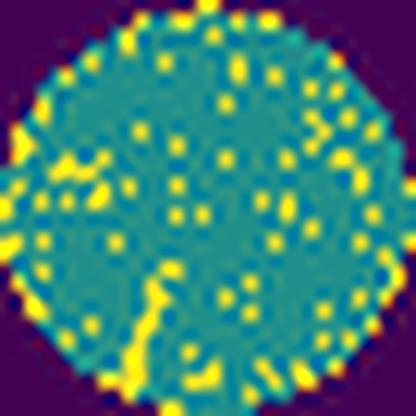Scratch: (108, 257, 189, 404)
